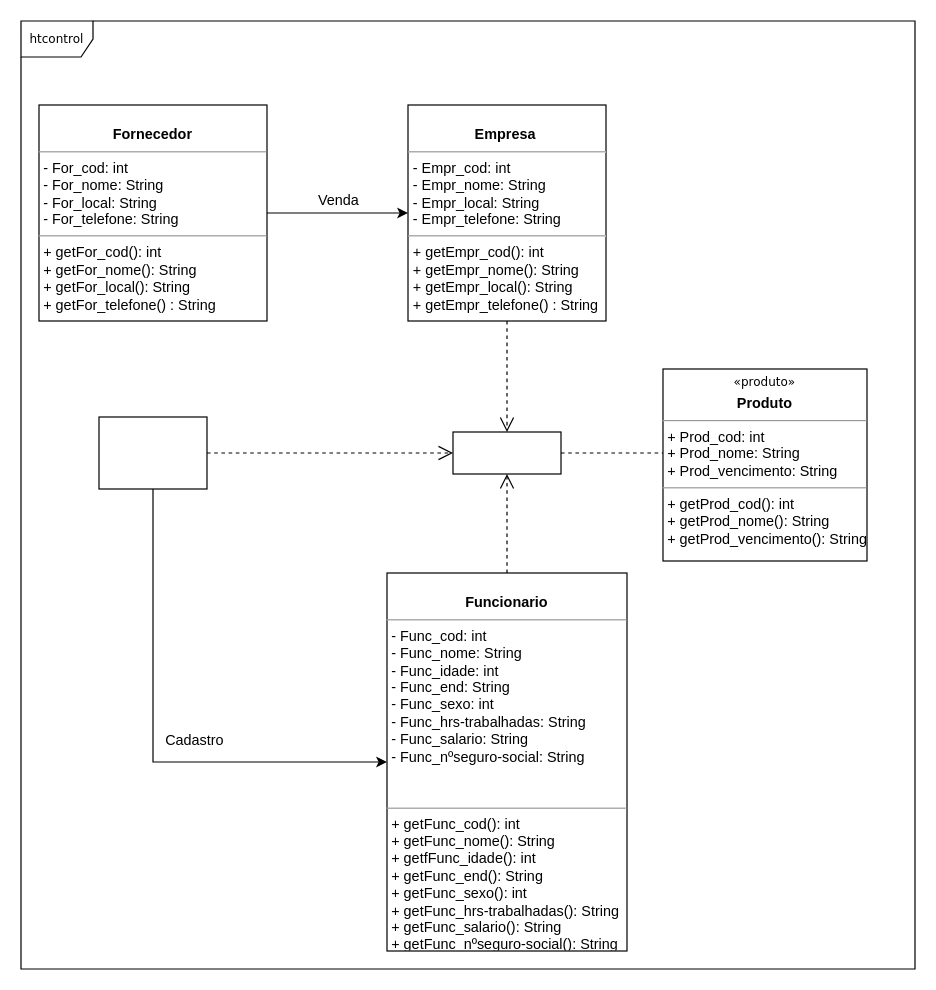
Image size: 936x990. Some labels were removed from this diagram. The shapes that lost their labels are listed below. From the top down, each one's centre as x and y in pixels, then its label:
At (x=152, y=452): "Gerente PrivateCRUD()".
At (x=506, y=452): "Gerencia".
